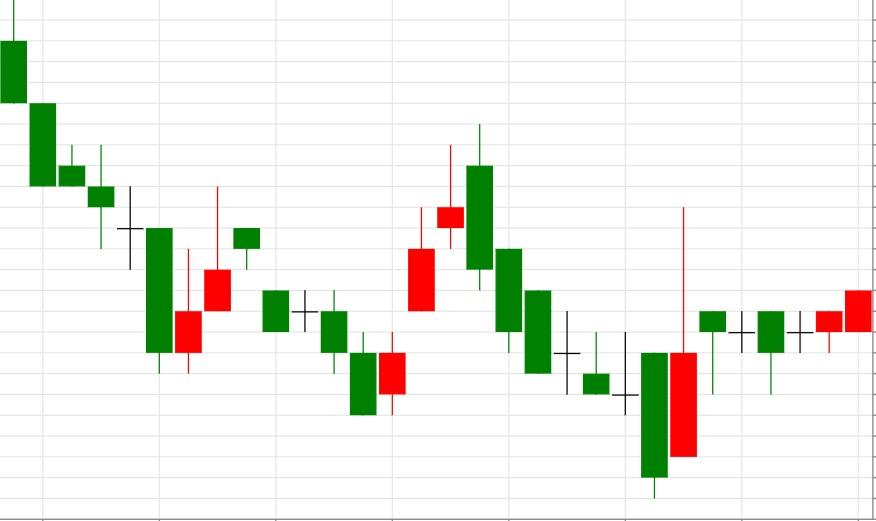three_white_soldiers_rise: (232, 143, 466, 417)
